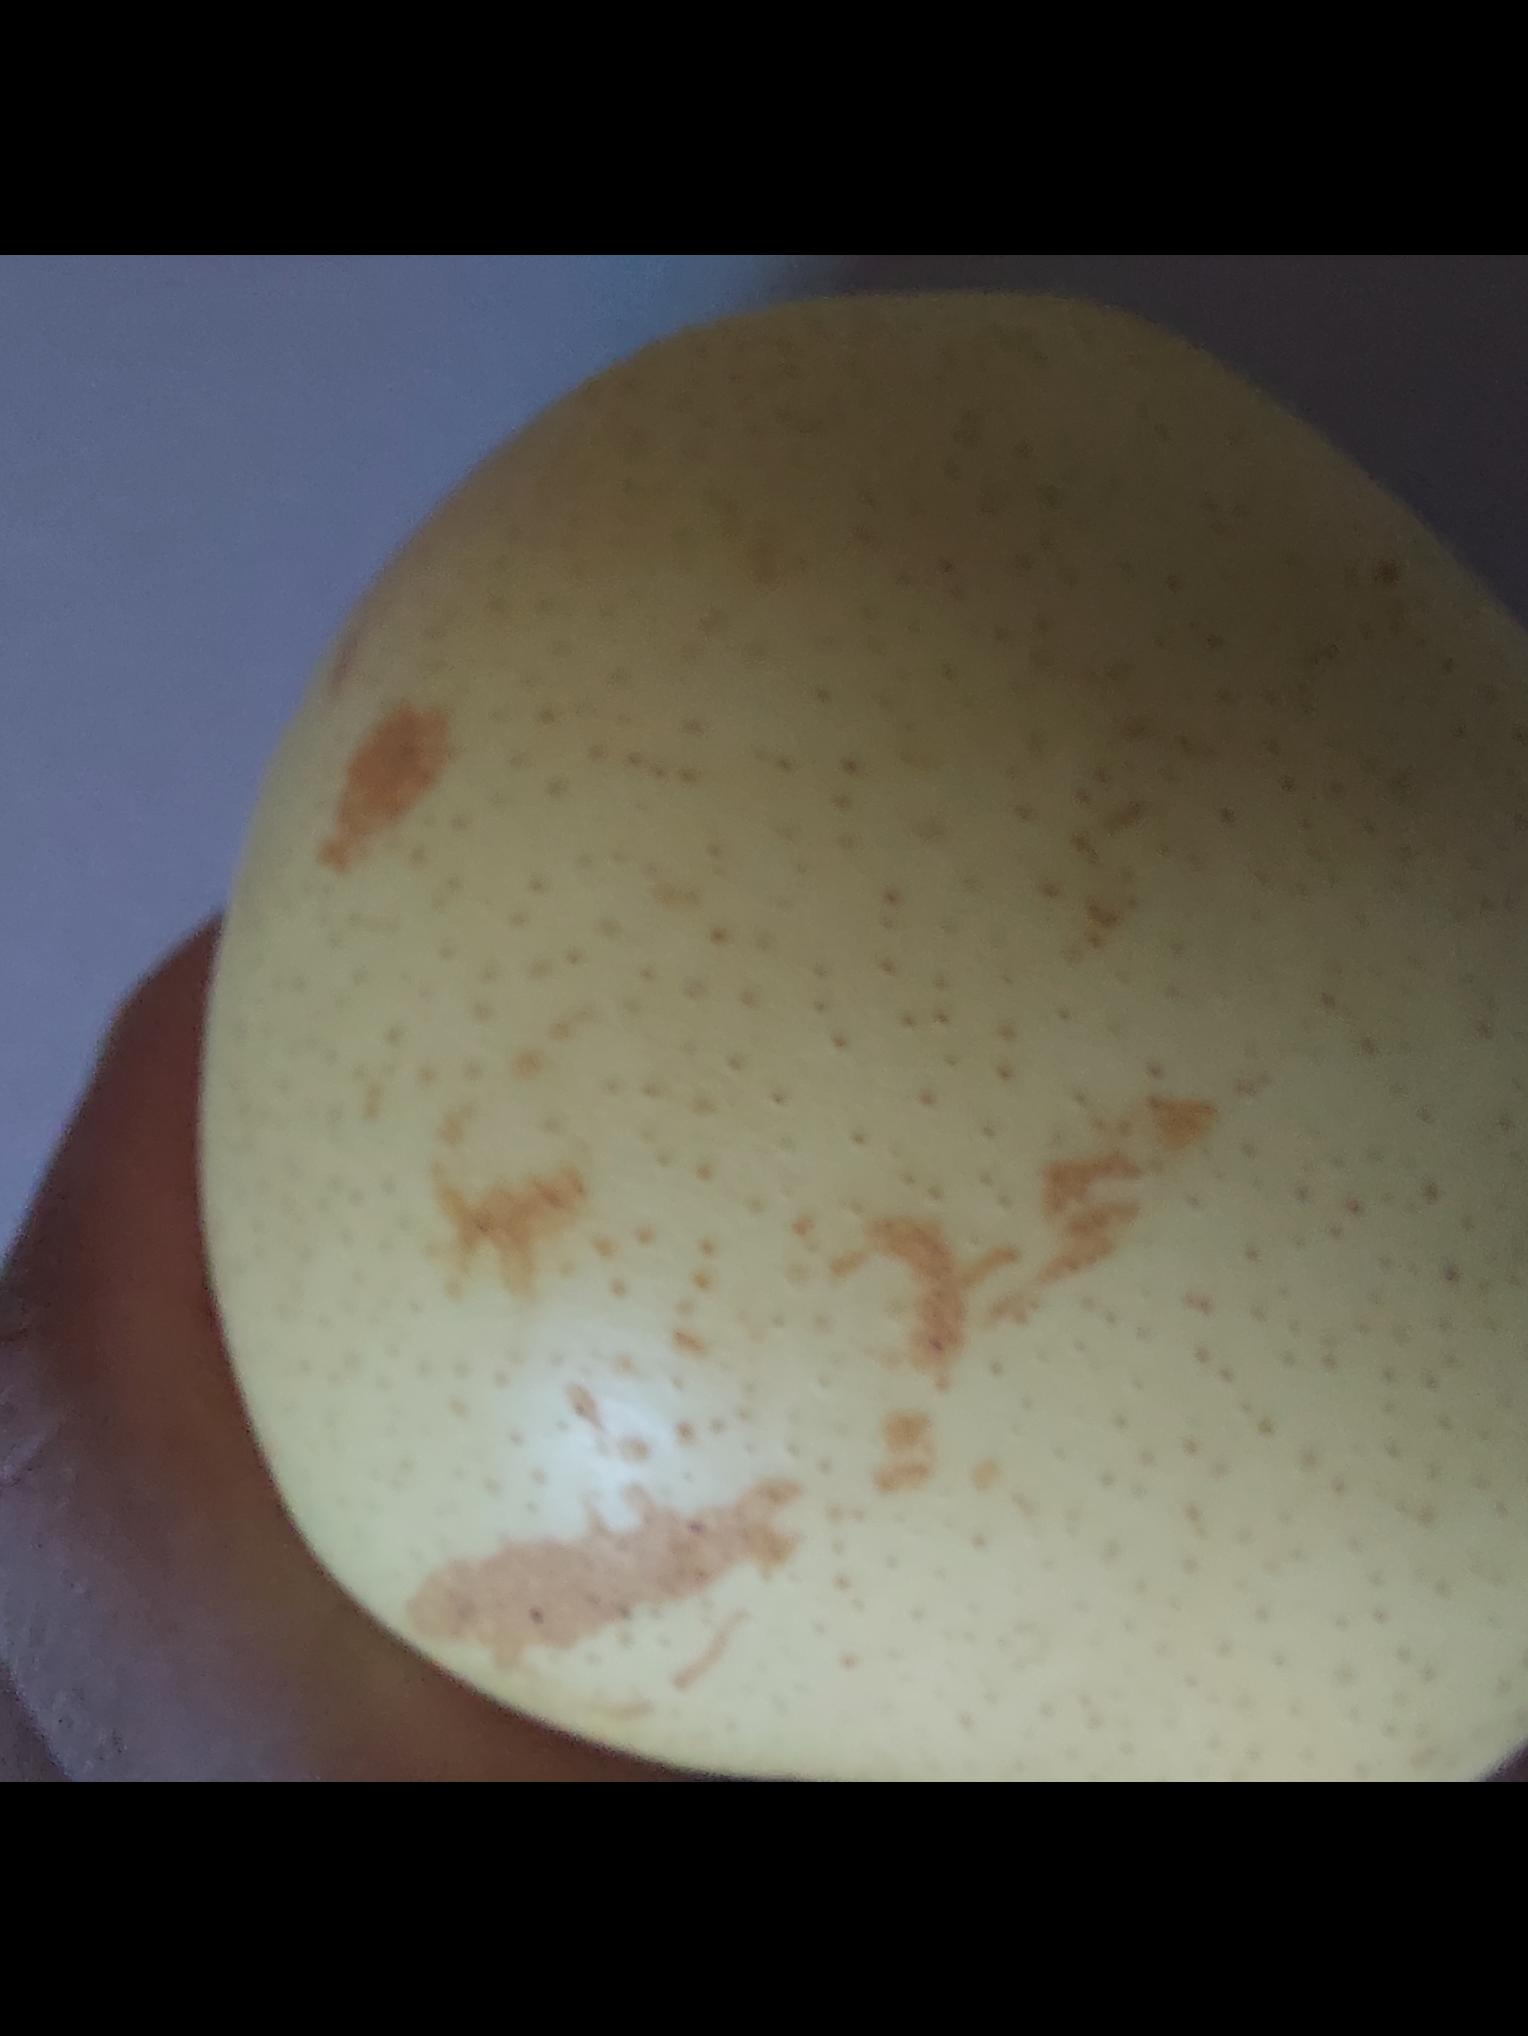Good Pear: (186, 289, 1528, 1782)
